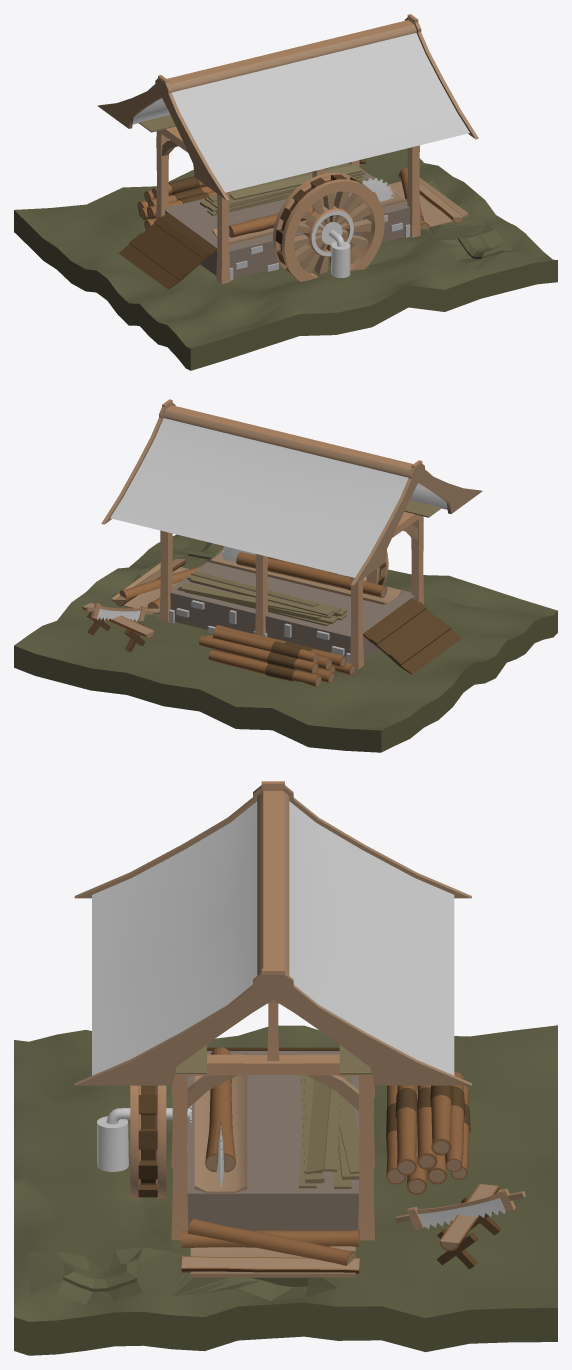
File: timber.gltf
The picture shows the model from 3 angles, top to bottom: view 1: azimuth 30°, elevation 25°; view 2: azimuth 150°, elevation 25°; view 3: azimuth 270°, elevation 25°; orthographic projection. The views are drawn at different scales.
Parts seen in each view (by area): view 1: polySurface23; view 2: polySurface23; view 3: polySurface23.
Part boxes in pixels (left/top/right/bottom): polySurface23: left=14, top=14, right=557, bottom=370; polySurface23: left=14, top=399, right=557, bottom=752; polySurface23: left=14, top=781, right=557, bottom=1355.
Size of the model in its own units: 16.95 by 9.77 by 14.14.
